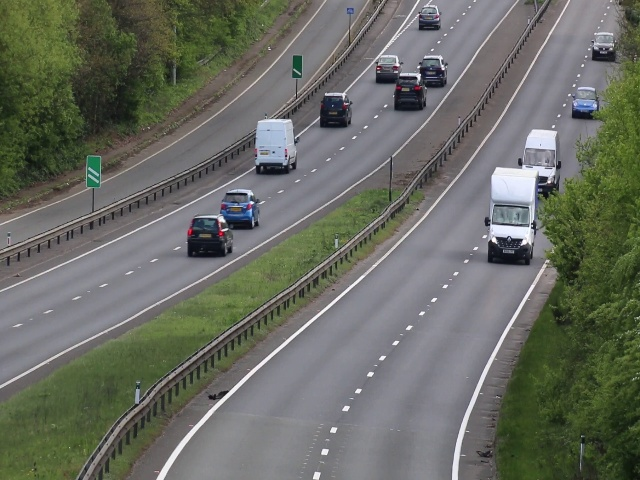car: (483, 203, 536, 264), (254, 118, 297, 174), (186, 212, 232, 259), (519, 143, 559, 180), (318, 90, 352, 129), (220, 185, 259, 219), (395, 73, 427, 113), (570, 85, 599, 119), (419, 52, 447, 86), (374, 52, 400, 84), (590, 31, 615, 59), (417, 2, 441, 30)
